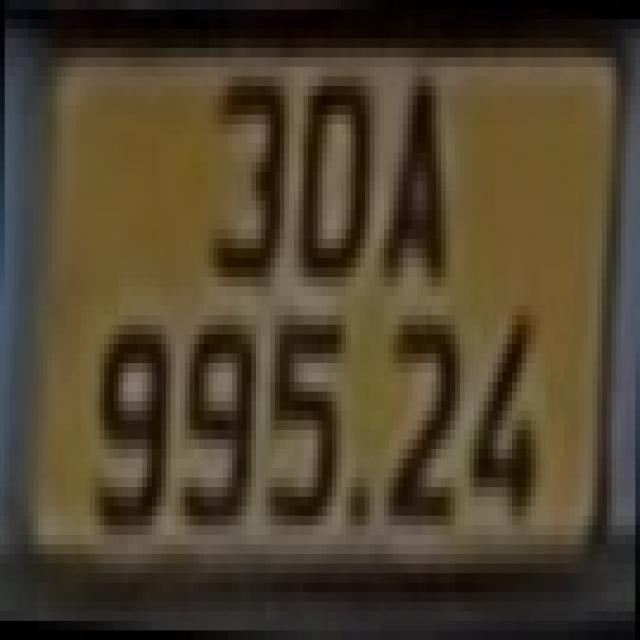2: (384, 306, 460, 525)
3: (209, 67, 289, 286)
4: (470, 306, 540, 525)
5: (266, 306, 346, 525)
9: (90, 315, 166, 535), (180, 316, 256, 526)
A: (380, 67, 450, 286)
D: (298, 67, 374, 286)
